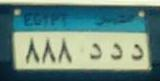8: (41, 36, 57, 66), (24, 36, 40, 66), (57, 37, 73, 66)
daal: (87, 40, 105, 64), (129, 41, 145, 64), (109, 41, 124, 63)
